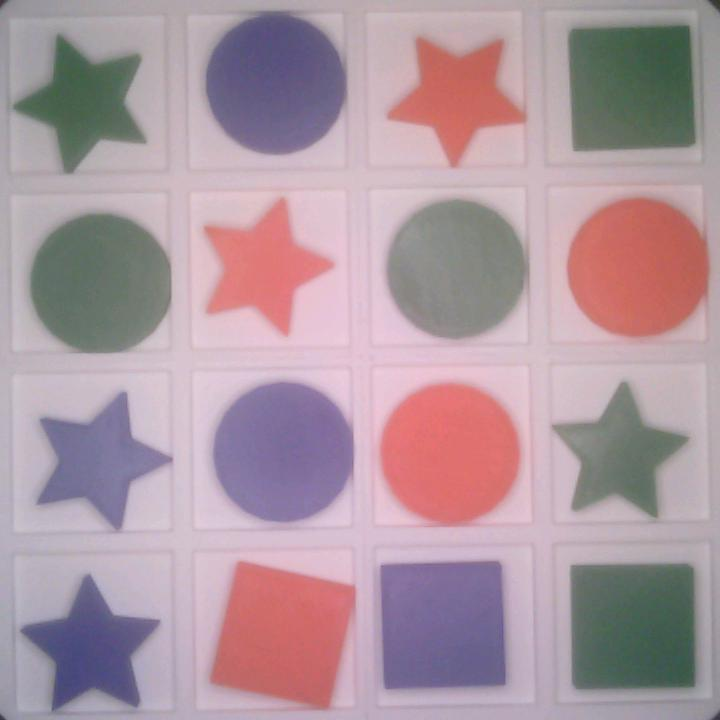Blue circle: (212, 379, 353, 523), (206, 15, 346, 154)
Blue square: (377, 558, 507, 692)
Blue star: (31, 390, 171, 531), (20, 574, 156, 711)
Green circle: (29, 212, 169, 354), (389, 199, 523, 335)
Green square: (565, 561, 700, 694), (562, 23, 695, 156)
Green star: (17, 33, 145, 169), (555, 384, 683, 520)
Orange circle: (570, 201, 706, 335), (382, 384, 516, 520)
Orange square: (205, 559, 358, 704)
Orange star: (385, 29, 521, 166), (201, 197, 333, 336)
